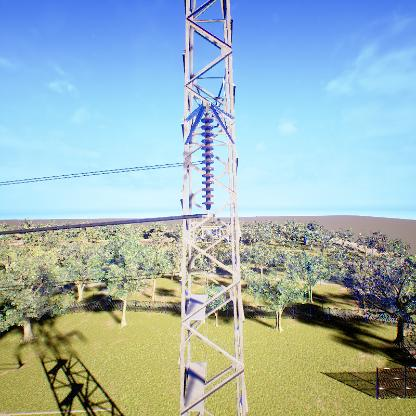insulator: (199, 115, 216, 210)
